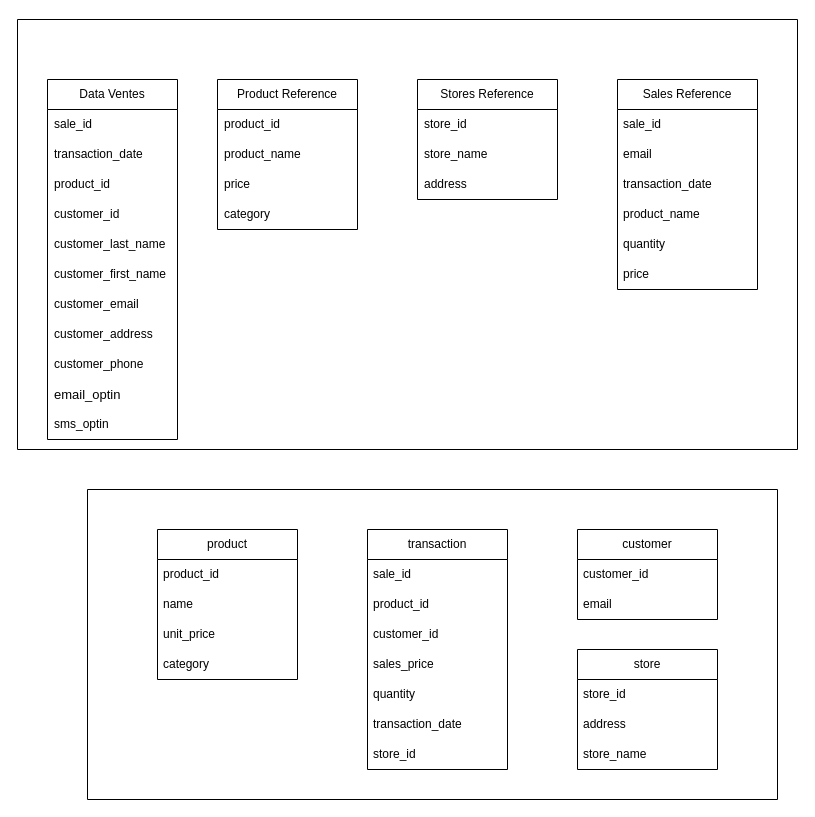
This 815x817 diagram has some shape labels left out. Here are the shapes that lost their labels. From the top down, the centre of each, then its label:
At [407,234]: "Data Lake".
At [432,644]: "DataWarehouse".
